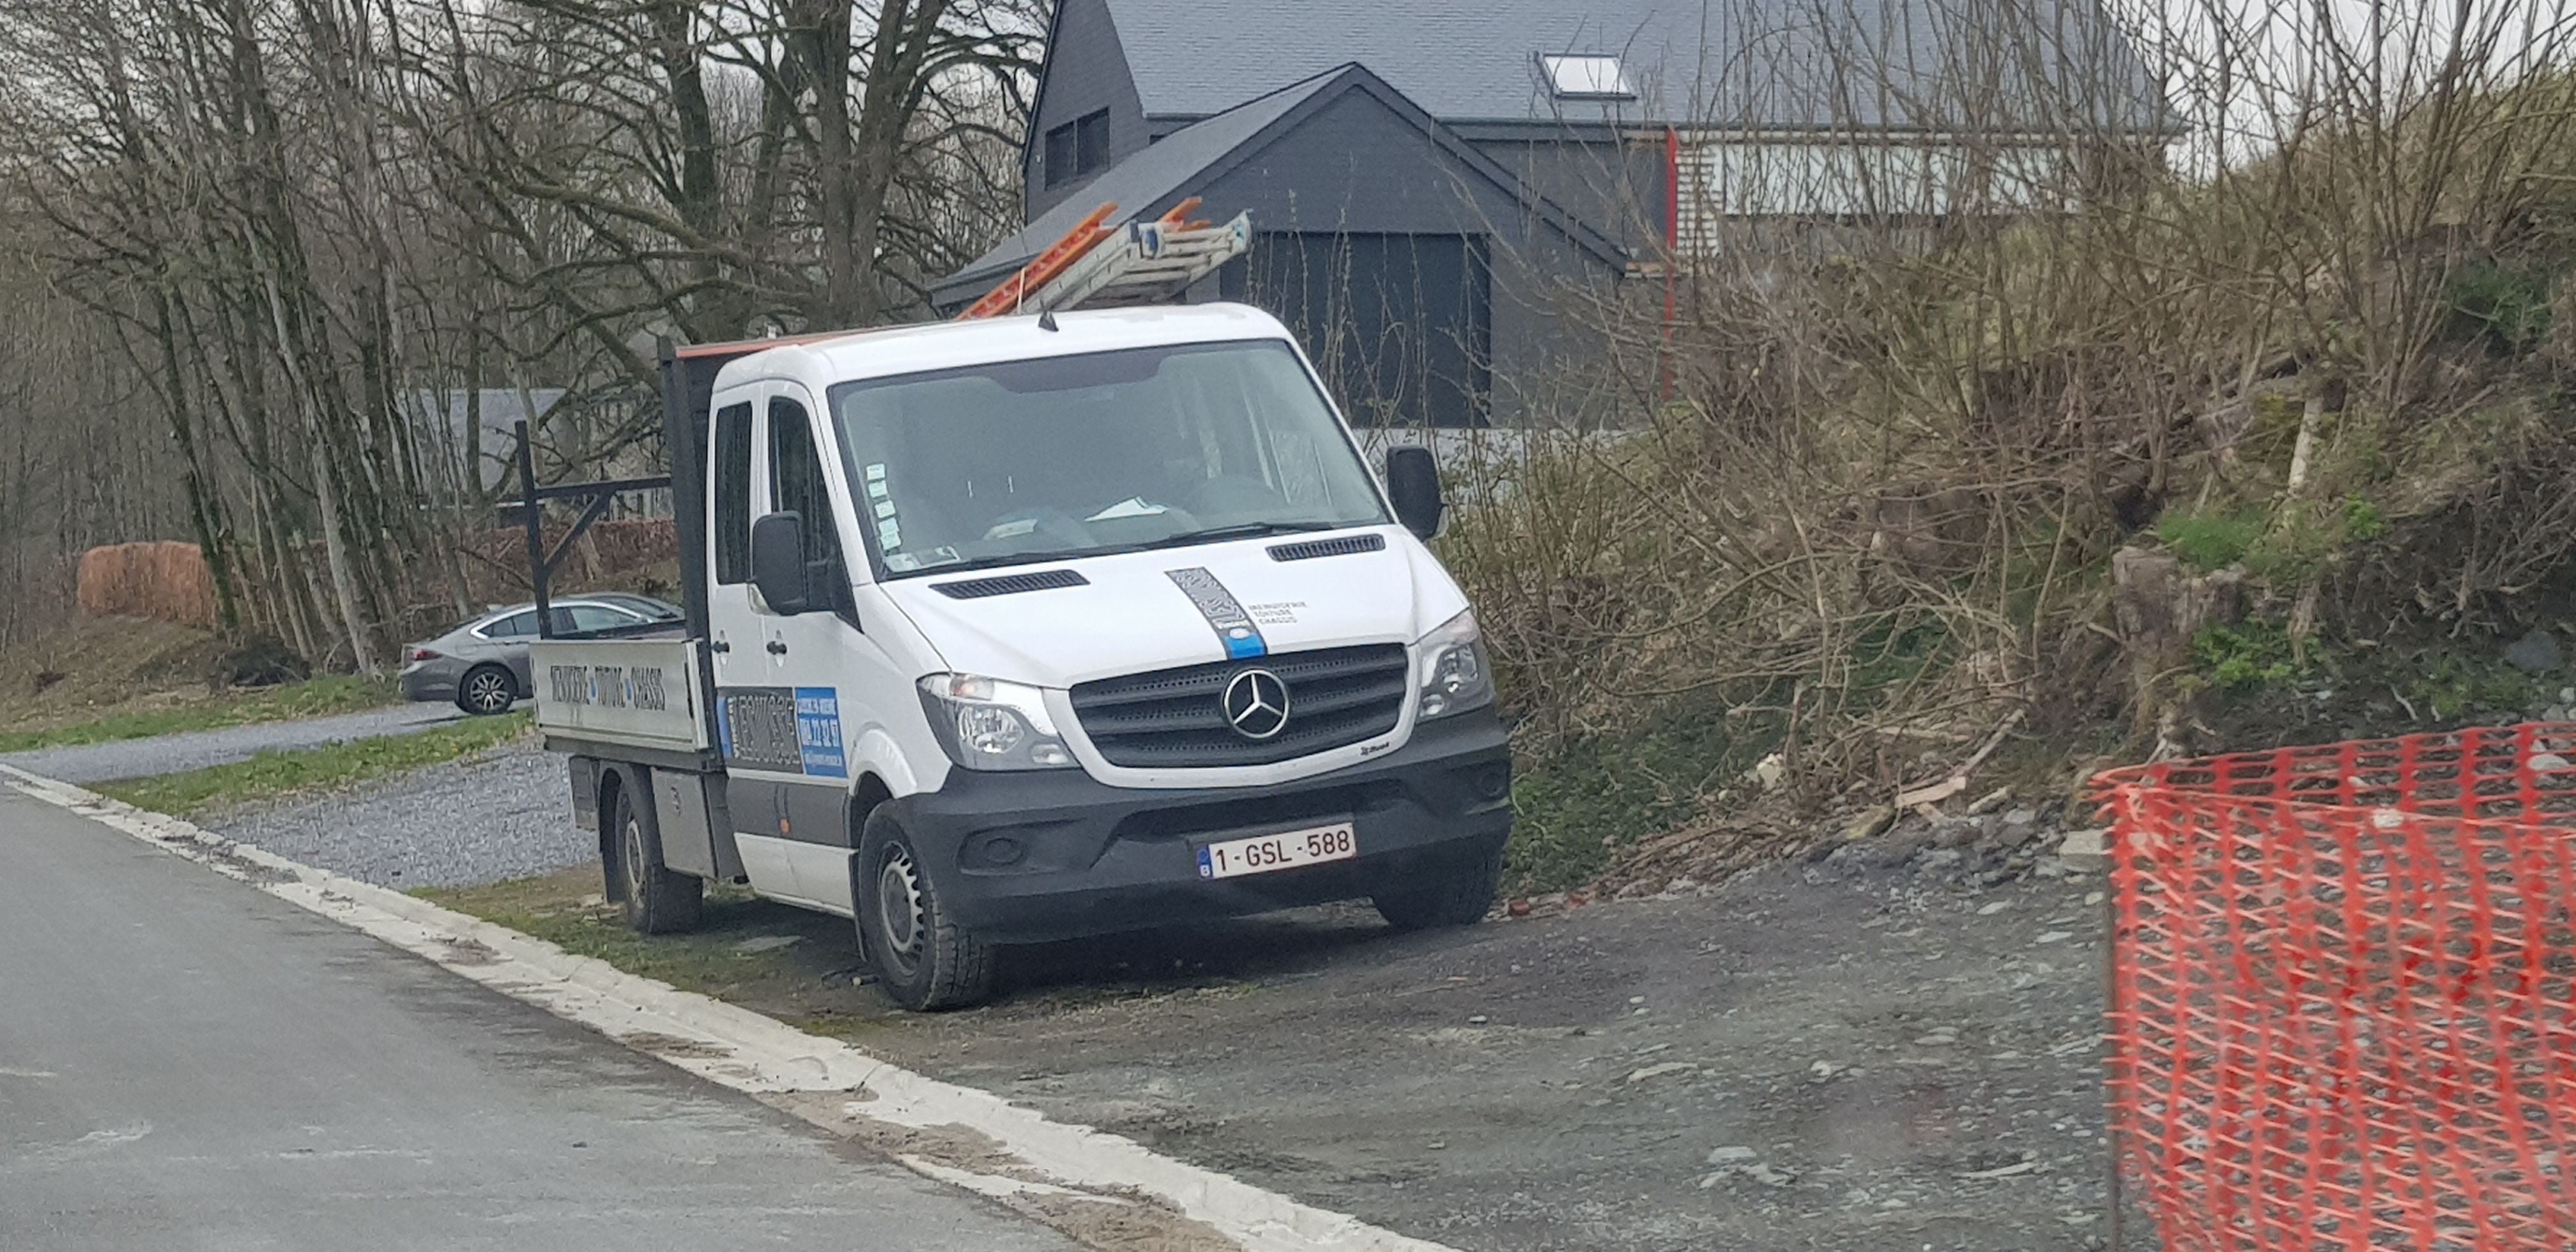licenceplate: (1195, 819, 1358, 882)
